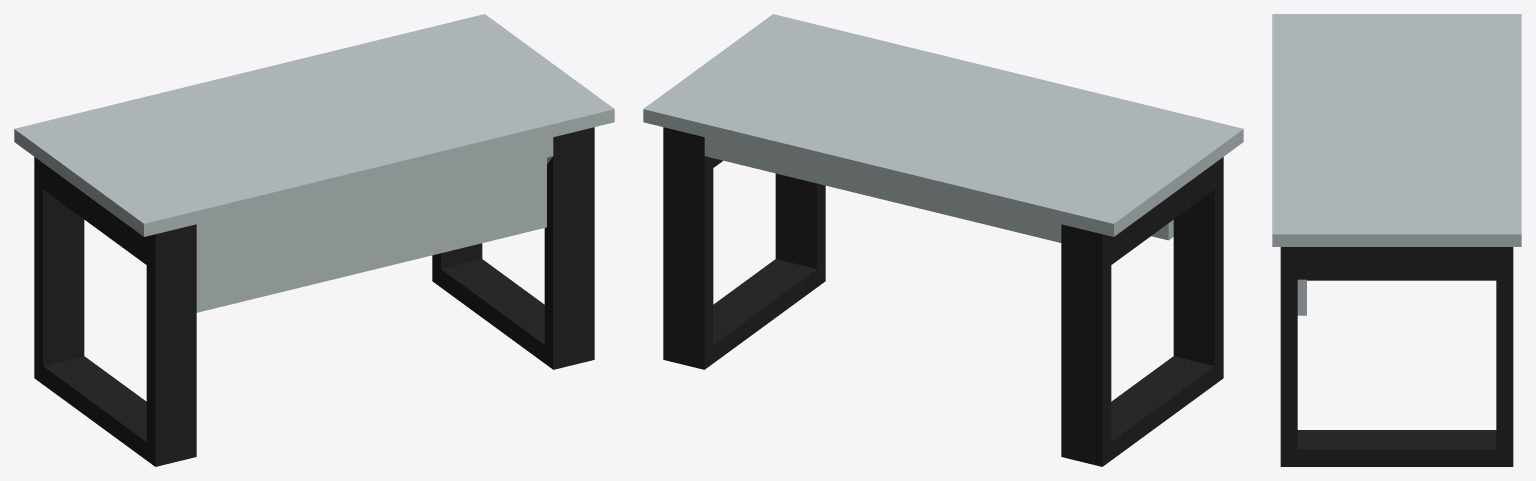
File: Table-2.fbx
The picture shows the model from 3 angles, left to right: view 1: azimuth 30°, elevation 25°; view 2: azimuth 150°, elevation 25°; view 3: azimuth 270°, elevation 25°; orthographic projection. The views are drawn at different scales.
Visible parts, largest first — view 1: Table-2; view 2: Table-2; view 3: Table-2.
Part boxes in pixels (bbox=[...]): Table-2: bbox=[14, 14, 614, 466]; Table-2: bbox=[643, 14, 1243, 466]; Table-2: bbox=[1272, 14, 1521, 466].
Bounding box in the file's own units: 1.66 × 0.8433 × 0.7943.
